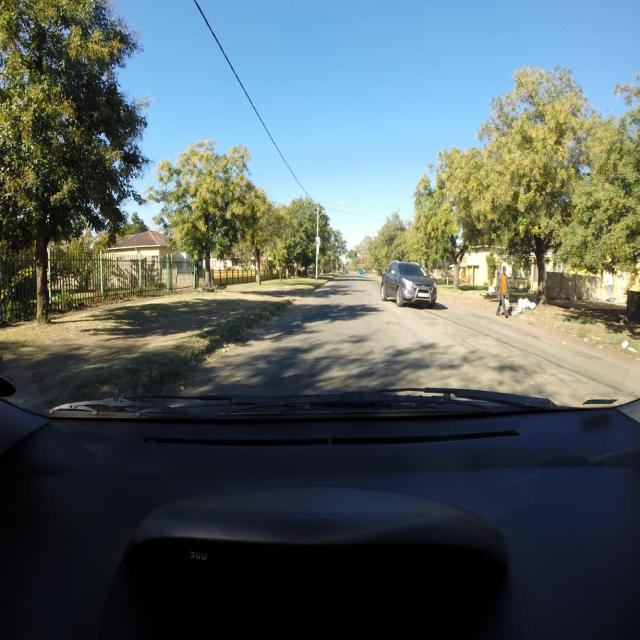Pothole: (466, 335, 510, 357), (525, 370, 570, 391), (386, 322, 400, 326)
